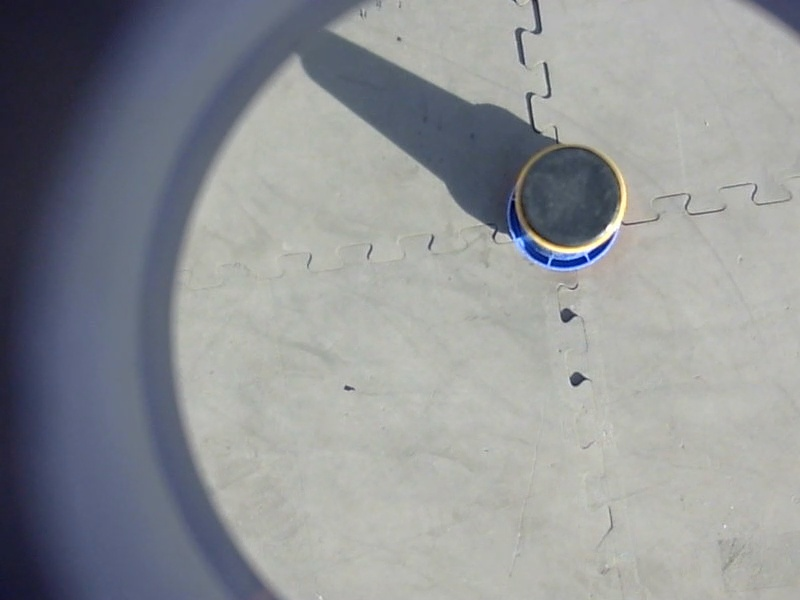tip: (507, 138, 636, 262)
